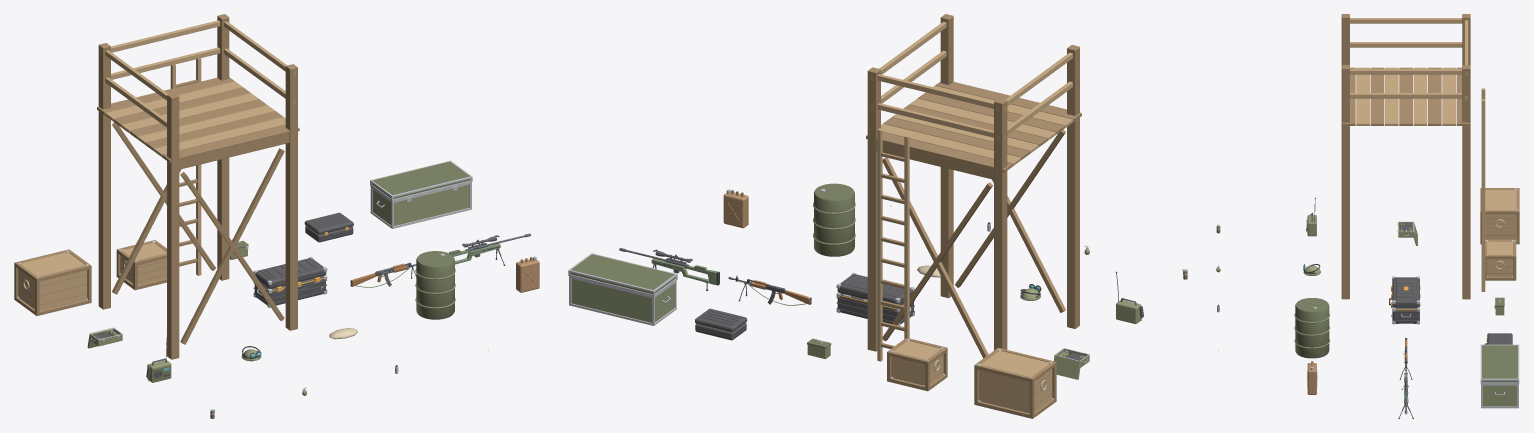
File: tactical.glb
3 renders of one model, left to right at view 1: azimuth 30°, elevation 25°; view 2: azimuth 150°, elevation 25°; view 3: azimuth 270°, elevation 25°, orthographic. The views are drawn at different scales.
Visible parts, largest first — view 1: sniper_tower_mesh, crate_big_mesh, fl_body, barrel_mesh, footlocker_lid_mesh, crate_small_mesh, loot_case_lid_mesh, hard_case_mesh, lc_body, jerrycan_mesh, sn_body, ak_body (+1 smaller); view 2: sniper_tower_mesh, crate_big_mesh, fl_body, barrel_mesh, footlocker_lid_mesh, crate_small_mesh, hard_case_mesh, sn_body, loot_case_lid_mesh, lc_body, jerrycan_mesh, ak_body (+1 smaller); view 3: sniper_tower_mesh, barrel_mesh, crate_big_mesh, footlocker_lid_mesh, crate_small_mesh, fl_body, loot_case_lid_mesh, lc_body, jerrycan_mesh, hard_case_mesh.
Boxes of the visible parts, x1,y1,x2,y2 form: sniper_tower_mesh: (97,14,299,359); crate_big_mesh: (14,249,91,315); fl_body: (370,182,471,228); barrel_mesh: (415,251,455,319); footlocker_lid_mesh: (370,160,472,201); crate_small_mesh: (116,240,166,290); loot_case_lid_mesh: (253,256,327,288); hard_case_mesh: (304,212,353,242); lc_body: (253,275,327,307); jerrycan_mesh: (516,256,539,292); sn_body: (449,233,531,265); ak_body: (350,262,416,287); sniper_tower_mesh: (866,14,1081,361); crate_big_mesh: (974,347,1056,418); fl_body: (569,276,676,325); barrel_mesh: (813,183,855,256); footlocker_lid_mesh: (568,253,677,296); crate_small_mesh: (887,338,947,391); hard_case_mesh: (695,308,747,340); sn_body: (619,248,719,290); loot_case_lid_mesh: (836,272,914,304); lc_body: (836,292,914,325); jerrycan_mesh: (723,189,748,228); ak_body: (728,275,811,305); sniper_tower_mesh: (1341,14,1485,299); barrel_mesh: (1294,298,1329,358); crate_big_mesh: (1480,188,1519,244); footlocker_lid_mesh: (1480,344,1519,383); crate_small_mesh: (1485,239,1516,280); fl_body: (1481,384,1518,408); loot_case_lid_mesh: (1392,276,1419,307); lc_body: (1389,286,1420,324); jerrycan_mesh: (1307,361,1317,394); hard_case_mesh: (1484,333,1512,344).
Size of the model in its own units: 7.85 by 4.66 by 5.18.
